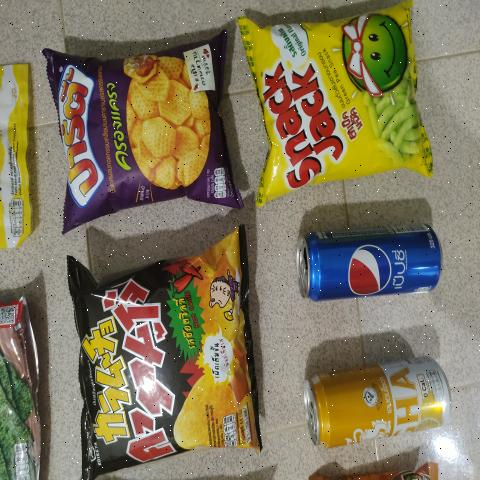karamujo: (75, 251, 259, 455)
party_purple: (51, 53, 227, 212)
pepsi_blue: (298, 233, 446, 287)
singha_yellow: (294, 358, 462, 444)
snack_jack: (258, 15, 434, 179)
